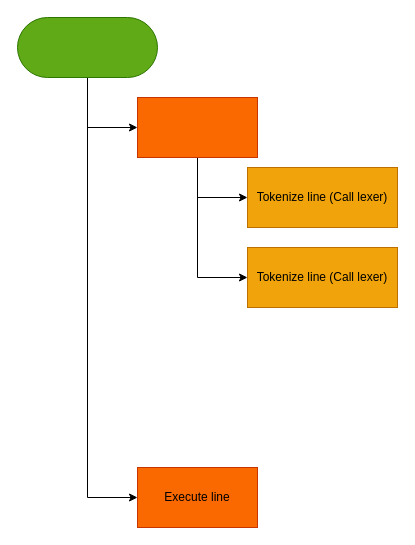
The diagram is 415 pixels wide and 545 high, and some of its shapes have lost their labels. Here are the shapes that lost their labels. From the top down, the box of each, then its label:
(16, 16, 158, 78): InterpretLine(string line)
(136, 96, 258, 158): Parse line
